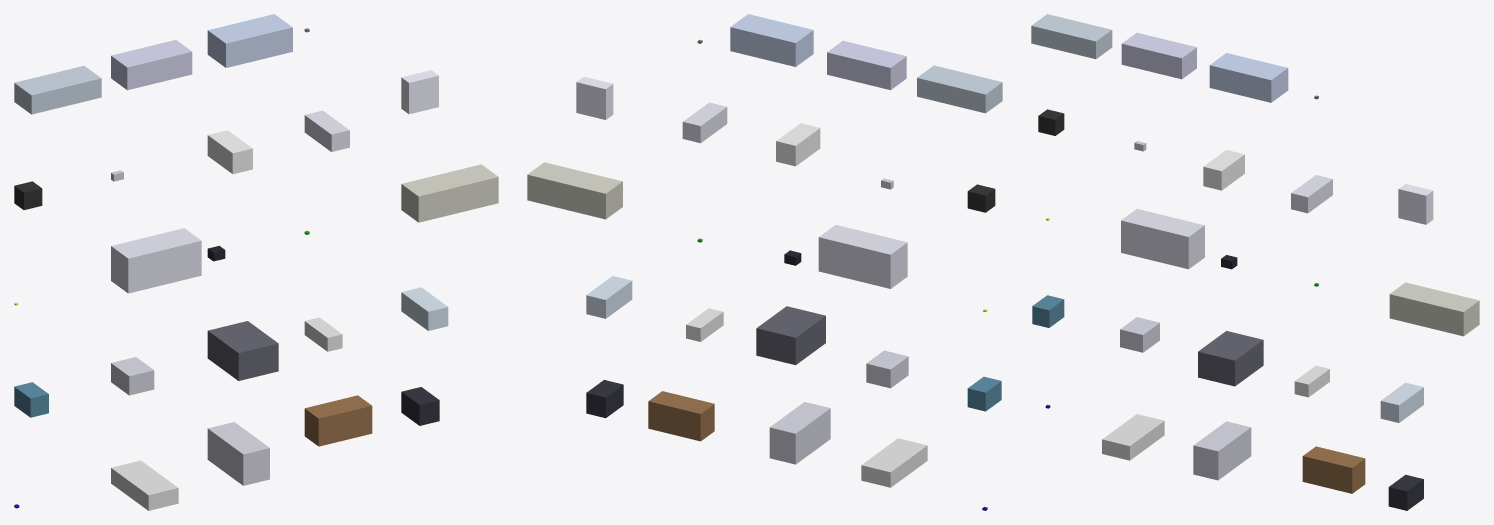
Rendered from equipment_catalog.obj.
3 renders of one model, left to right at view 1: azimuth 30°, elevation 25°; view 2: azimuth 150°, elevation 25°; view 3: azimuth 330°, elevation 25°, orthographic. The views are drawn at different scales.
Parts seen in each view (by area): view 1: EQ-LIT-HOSP-01, EQ-PAIL-LAB-01, EQ-TBL-EX-ELEC-01, EQ-COMPR-AIR-01, EQ-TBL-EX-01, EQ-AUTOCLAVE-01, EQ-TAB-OP-01, EQ-BUR-MED-01, EQ-ARM-MED-01, EQ-REF-MED-01, EQ-ECHO-01, EQ-SCIA-01 (+6 smaller); view 2: EQ-LIT-HOSP-01, EQ-PAIL-LAB-01, EQ-TBL-EX-ELEC-01, EQ-COMPR-AIR-01, EQ-AUTOCLAVE-01, EQ-TBL-EX-01, EQ-TAB-OP-01, EQ-BUR-MED-01, EQ-ARM-MED-01, EQ-REF-MED-01, EQ-ECHO-01, EQ-SCIA-01 (+6 smaller); view 3: EQ-LIT-HOSP-01, EQ-PAIL-LAB-01, EQ-TBL-EX-ELEC-01, EQ-COMPR-AIR-01, EQ-AUTOCLAVE-01, EQ-TBL-EX-01, EQ-TAB-OP-01, EQ-BUR-MED-01, EQ-ARM-MED-01, EQ-ECHO-01, EQ-SCIA-01, EQ-REF-MED-01 (+6 smaller).
Boxes of the visible parts, x1,y1,x2,y2 form: EQ-LIT-HOSP-01: (111,228,201,293); EQ-PAIL-LAB-01: (401,164,498,222); EQ-TBL-EX-ELEC-01: (207,14,292,67); EQ-COMPR-AIR-01: (207,321,278,380); EQ-TBL-EX-01: (111,40,192,90); EQ-AUTOCLAVE-01: (207,422,269,485); EQ-TAB-OP-01: (14,65,101,114); EQ-BUR-MED-01: (304,395,372,446); EQ-ARM-MED-01: (111,460,178,510); EQ-REF-MED-01: (207,130,252,174); EQ-ECHO-01: (401,287,448,330); EQ-SCIA-01: (401,70,438,114); EQ-LIT-HOSP-01: (818,225,907,288); EQ-PAIL-LAB-01: (527,162,622,219); EQ-TBL-EX-ELEC-01: (730,14,813,66); EQ-COMPR-AIR-01: (756,306,825,365); EQ-AUTOCLAVE-01: (769,402,830,464); EQ-TBL-EX-01: (827,40,906,90); EQ-TAB-OP-01: (917,65,1002,113); EQ-BUR-MED-01: (648,391,714,441); EQ-ARM-MED-01: (861,438,927,487); EQ-REF-MED-01: (776,123,820,166); EQ-ECHO-01: (586,276,632,318); EQ-SCIA-01: (576,76,613,119); EQ-LIT-HOSP-01: (1121,209,1204,269); EQ-PAIL-LAB-01: (1389,282,1479,336); EQ-TBL-EX-ELEC-01: (1209,53,1288,102); EQ-COMPR-AIR-01: (1198,331,1263,386); EQ-AUTOCLAVE-01: (1193,421,1251,480); EQ-TBL-EX-01: (1121,32,1196,79); EQ-TAB-OP-01: (1031,14,1112,59); EQ-BUR-MED-01: (1302,446,1365,493); EQ-ARM-MED-01: (1102,414,1164,460); EQ-ECHO-01: (1380,382,1423,422); EQ-SCIA-01: (1398,184,1433,224); EQ-REF-MED-01: (1203,150,1244,190).
Size of the model in its own units: 14 by 12.3 by 1.95.
